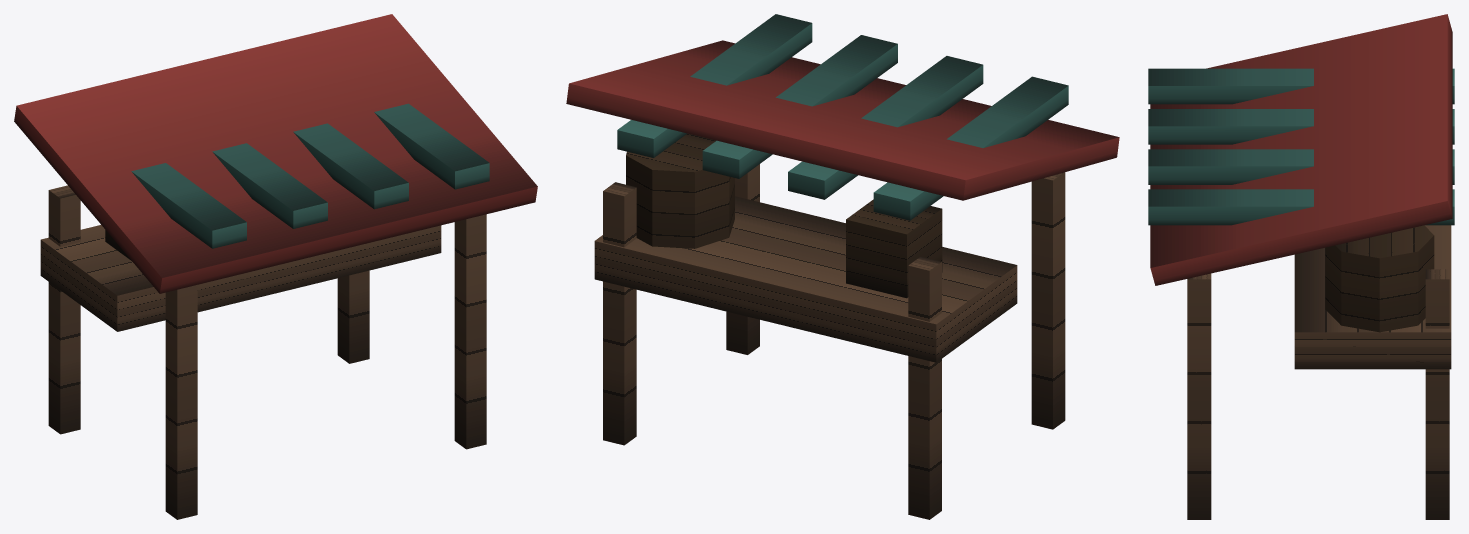
File: market_stall.gltf
The picture shows the model from 3 angles, left to right: view 1: azimuth 30°, elevation 25°; view 2: azimuth 150°, elevation 25°; view 3: azimuth 270°, elevation 25°; orthographic projection. The views are drawn at different scales.
Visible parts, largest first — view 1: market_stall; view 2: market_stall; view 3: market_stall.
Boxes of the visible parts, x1=… form: market_stall: x1=14, y1=14, x2=537, y2=519; market_stall: x1=566, y1=14, x2=1119, y2=519; market_stall: x1=1148, y1=14, x2=1454, y2=519.
Size of the model in its own units: 1.3 by 1.09 by 0.9.
1 material, 1 textured.
